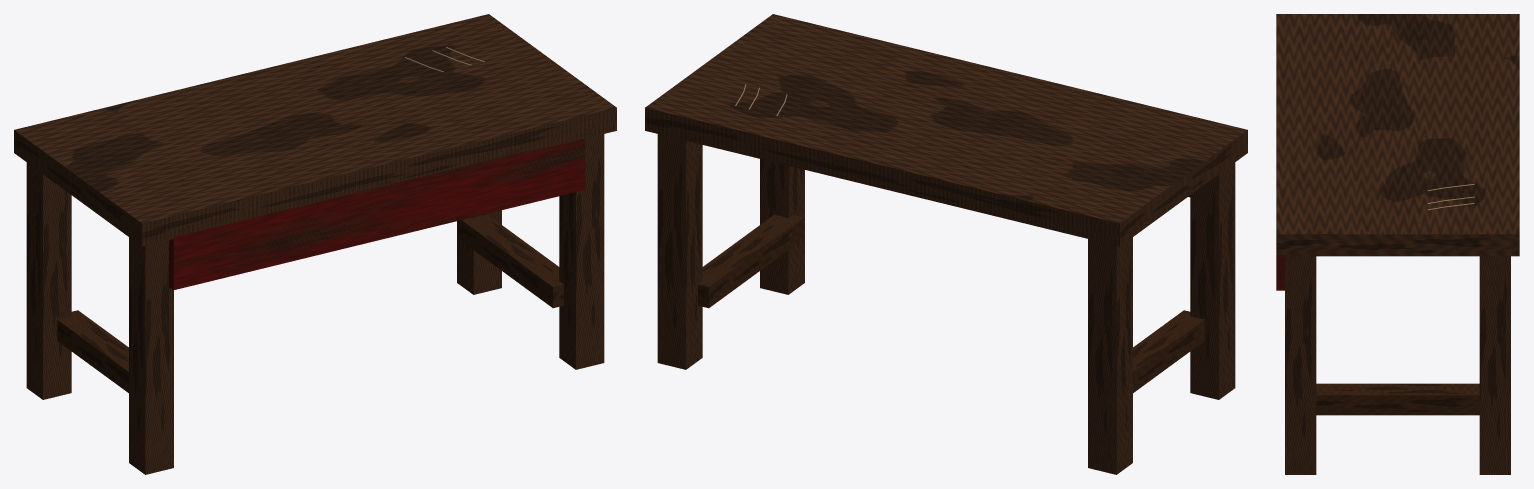
The model's file is desk_study.glb.
The picture shows the model from 3 angles, left to right: view 1: azimuth 30°, elevation 25°; view 2: azimuth 150°, elevation 25°; view 3: azimuth 270°, elevation 25°; orthographic projection. The views are drawn at different scales.
Parts seen in each view (by area): view 1: Top, DrawerF, Leg_-68_28, Leg_-68_-28, Leg_68_28, Art_WarmWood, Leg_68_-28; view 2: Top, Leg_68_-28, Leg_-68_-28, Leg_-68_28, Art_WarmWood, Leg_68_28; view 3: Top, Leg_68_-28, Leg_68_28, Art_WarmWood, DrawerF.
Part boxes in pixels (x1,y1,x2,y2): Top: [14, 14, 616, 246]; DrawerF: [169, 138, 585, 290]; Leg_-68_28: [129, 237, 173, 474]; Leg_-68_-28: [26, 162, 71, 399]; Leg_68_28: [559, 134, 604, 369]; Art_WarmWood: [57, 214, 563, 392]; Leg_68_-28: [457, 210, 501, 294]; Top: [645, 14, 1247, 246]; Leg_68_-28: [657, 134, 702, 369]; Leg_-68_-28: [1088, 237, 1132, 474]; Leg_-68_28: [1190, 162, 1235, 399]; Art_WarmWood: [698, 214, 1204, 392]; Leg_68_28: [760, 159, 804, 294]; Top: [1276, 14, 1519, 256]; Leg_68_-28: [1479, 256, 1510, 474]; Leg_68_28: [1285, 256, 1316, 474]; Art_WarmWood: [1316, 383, 1479, 415]; DrawerF: [1276, 256, 1284, 290].
Size of what is drawn, in the model's own units: 1.5 by 0.7766 by 0.7.
Materials: 5 (4 with a texture image).
